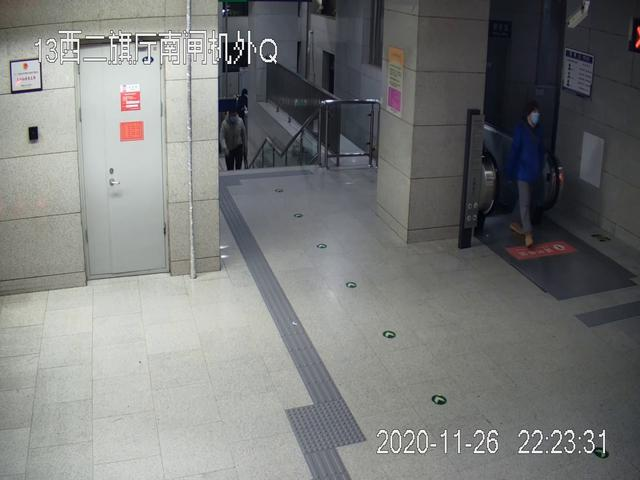person: (508, 102, 551, 247)
